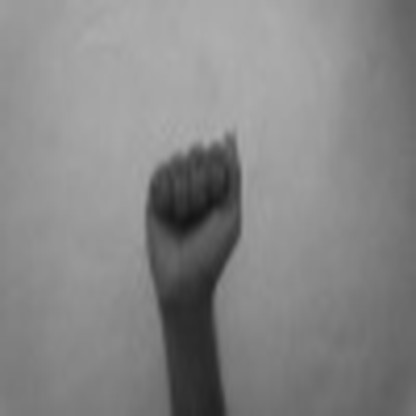a: (137, 118, 246, 301)
